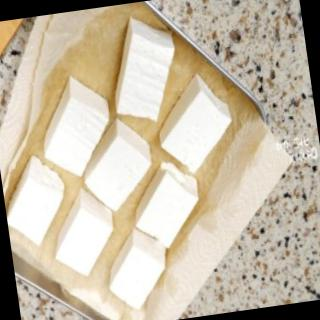Tahu: (110, 74, 232, 309), (43, 76, 153, 276), (114, 18, 174, 121), (6, 155, 66, 246)
